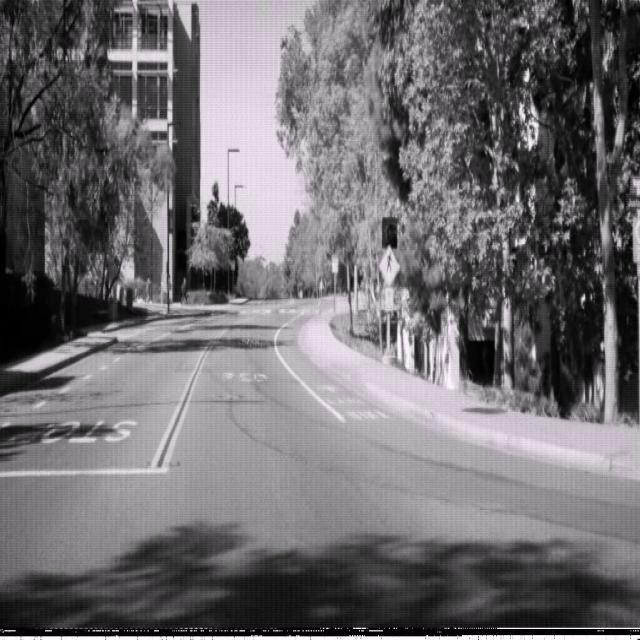pedestrianCrossing: (378, 244, 400, 287)
